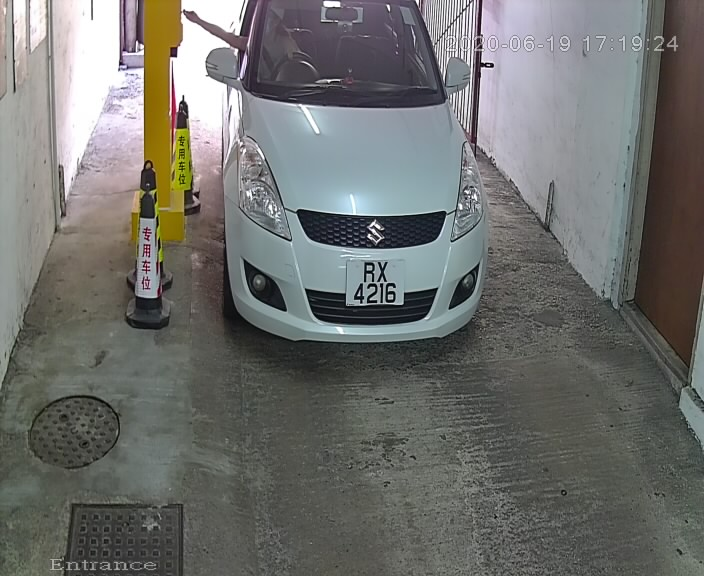privatecar: (202, 3, 512, 366)
